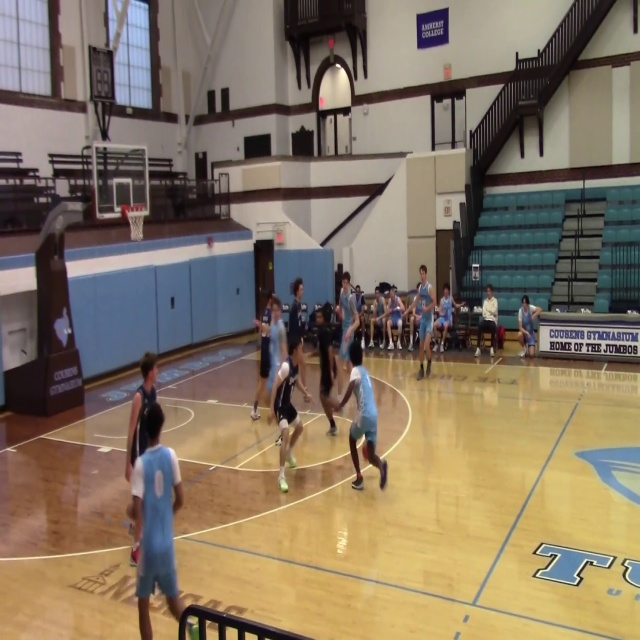Basketball: (277, 361, 290, 381)
